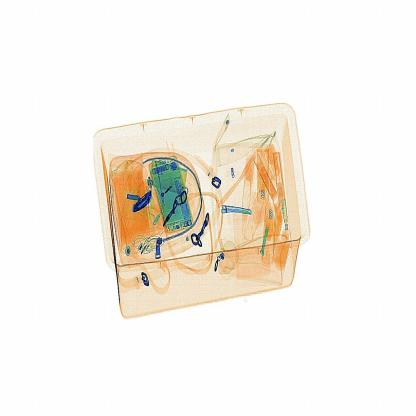knife: (129, 185, 169, 222)
